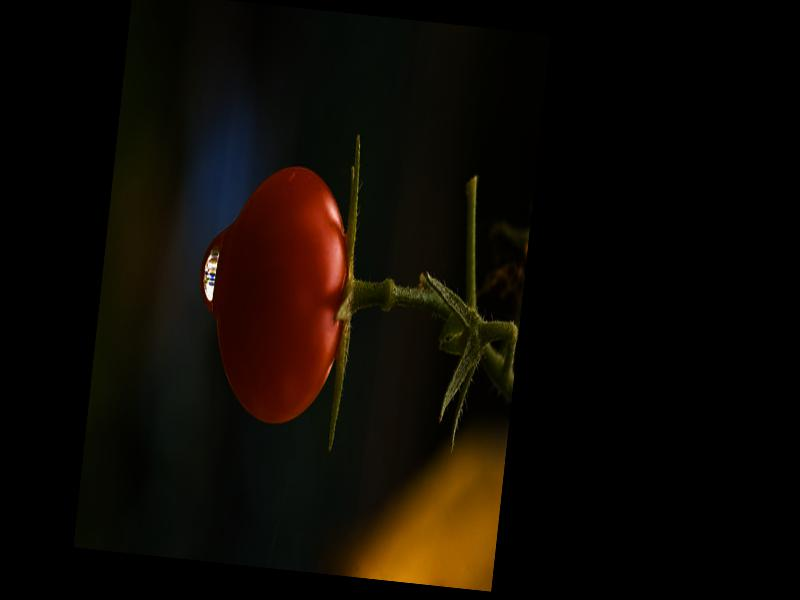Tomato: (205, 156, 359, 428)
